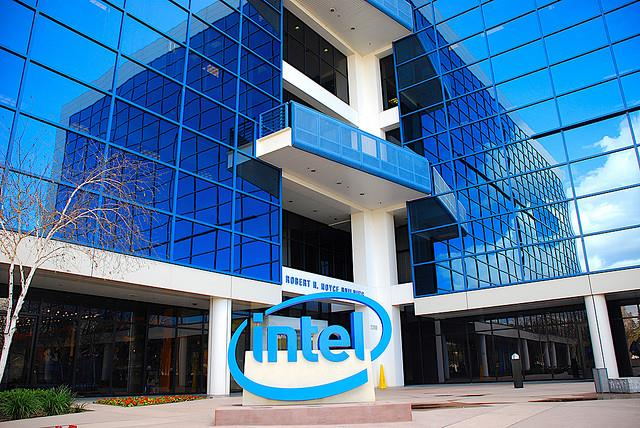intel: (219, 281, 395, 400)
